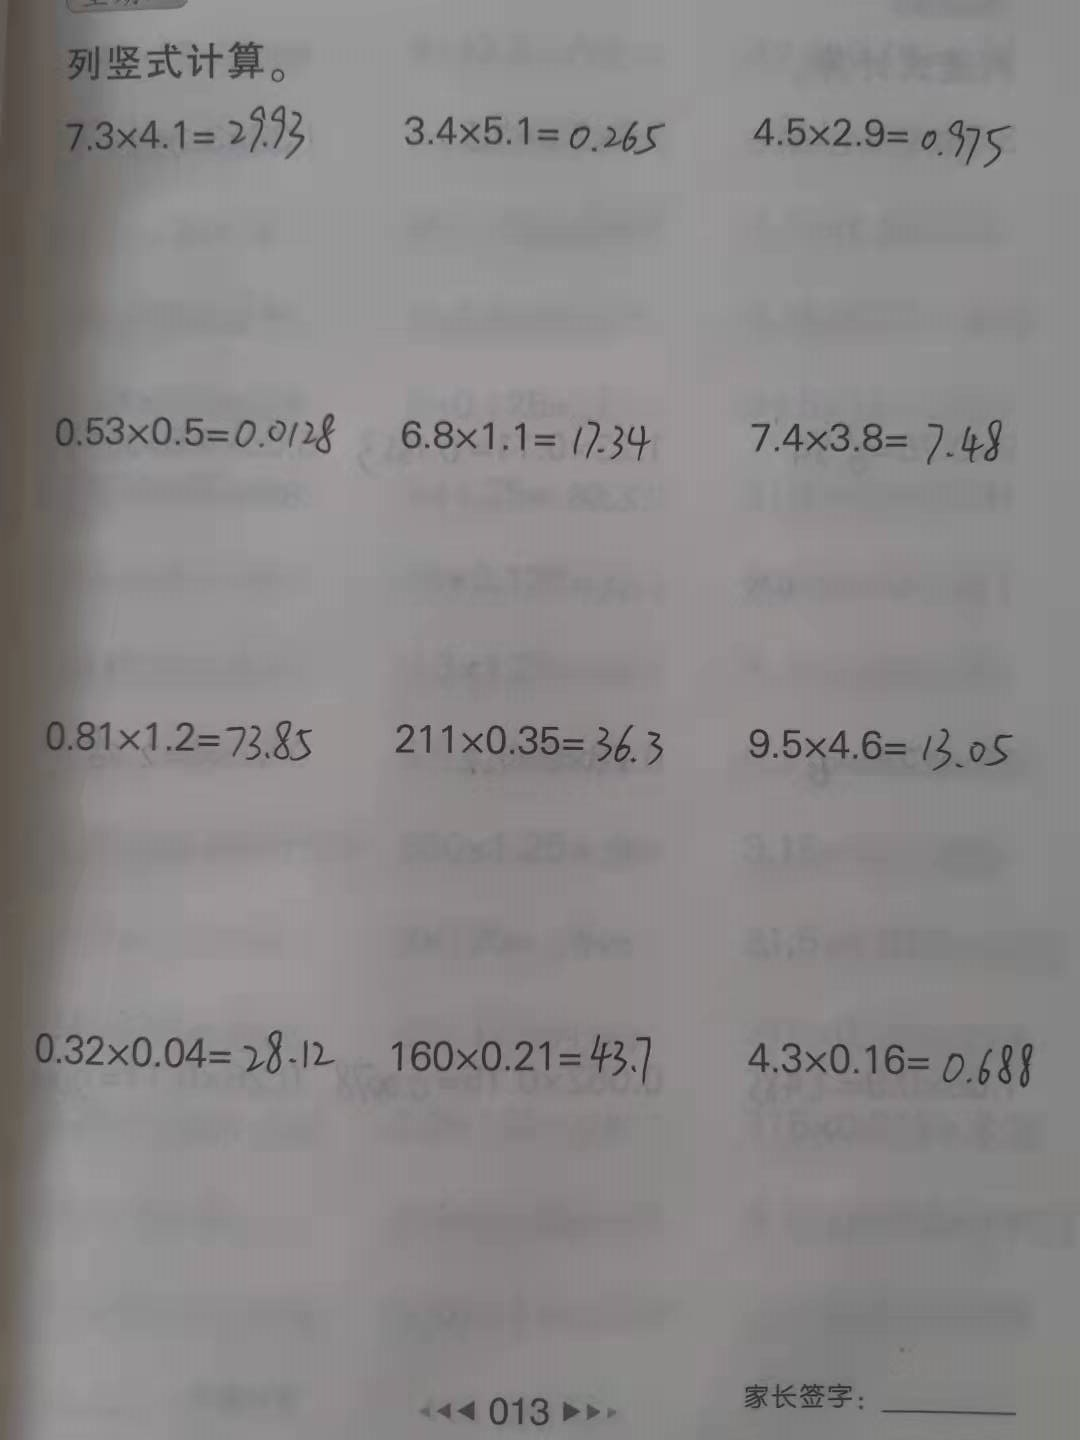equation: (383, 1018, 672, 1096), (742, 1032, 1047, 1104), (745, 101, 1016, 179), (19, 1023, 341, 1089), (733, 408, 1026, 478), (54, 85, 310, 166), (397, 400, 666, 473), (37, 708, 324, 774), (397, 713, 674, 779), (739, 715, 1022, 778), (47, 404, 343, 461), (393, 105, 672, 162)
